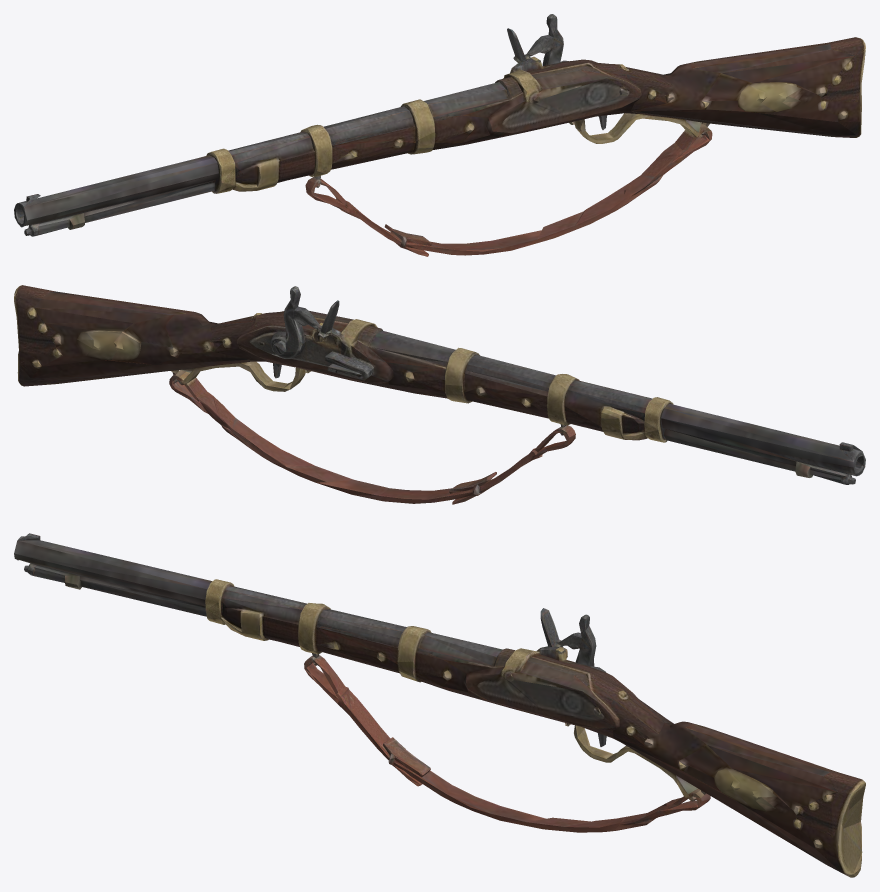
The model's file is dane_gun.glb.
3 views of the same model, one above another, from view 1: azimuth 30°, elevation 25°; view 2: azimuth 150°, elevation 25°; view 3: azimuth 330°, elevation 25° (orthographic).
Bounding box in the file's own units: 1.9 × 0.4429 × 0.1419.
1 material, 1 textured.
